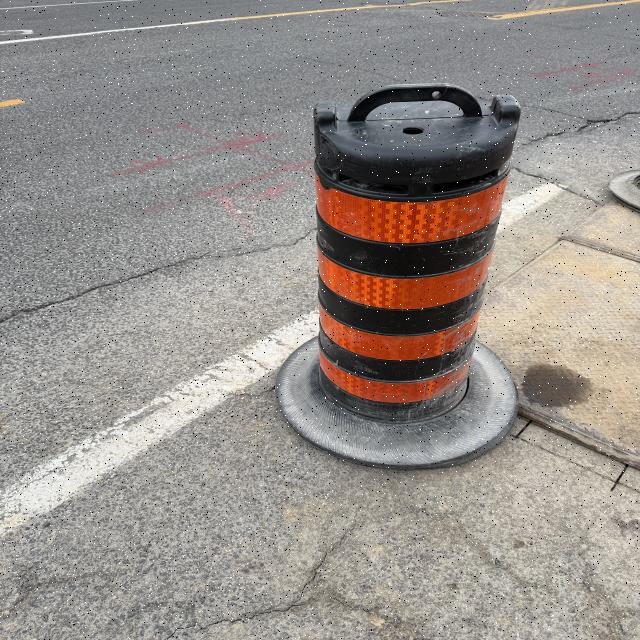Teraffic Barrel: (276, 84, 520, 468)
